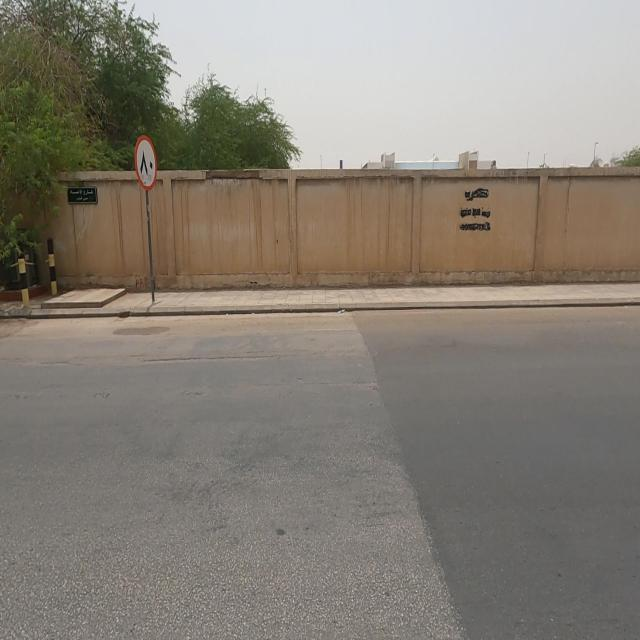Graffiti: (461, 187, 493, 234)
